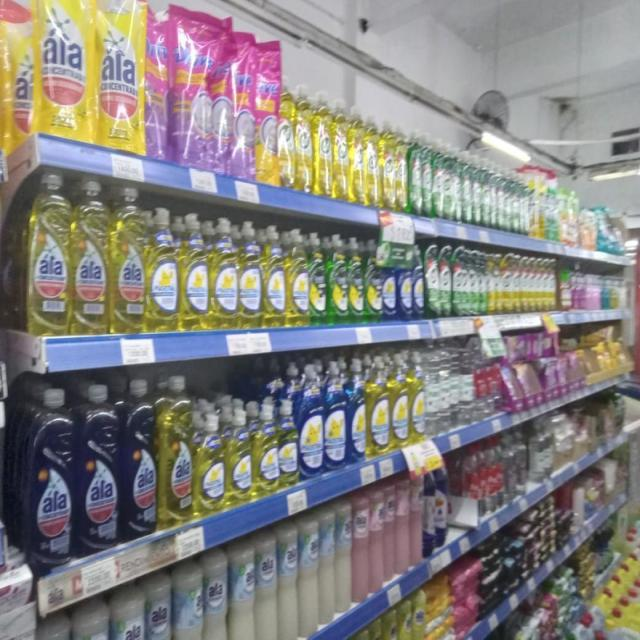ala_conc_amarillo: (24, 170, 69, 337), (71, 177, 109, 337), (158, 375, 193, 528), (110, 184, 145, 336)
ala_conc_azul: (25, 385, 74, 570), (76, 381, 120, 553), (122, 376, 157, 540)
ala_crem_blanco: (230, 543, 254, 640), (278, 525, 298, 640), (256, 534, 277, 640), (204, 550, 228, 640), (112, 585, 145, 640), (336, 502, 352, 615), (146, 572, 172, 640), (72, 599, 110, 640), (38, 613, 71, 640)
ala_crem_rosado: (353, 496, 369, 604), (370, 490, 384, 595)
ala_sachet_amarillo: (37, 0, 94, 140), (98, 0, 144, 153), (0, 0, 36, 150)
cif_conc_bot_amarilla: (313, 90, 332, 197), (294, 84, 312, 194), (278, 79, 294, 190), (332, 98, 348, 202), (348, 105, 364, 205), (364, 112, 379, 208), (380, 117, 394, 211), (395, 123, 407, 213)
cif_conc_botella_verde: (408, 128, 422, 216), (426, 244, 439, 320), (453, 247, 466, 318), (440, 245, 452, 318), (422, 133, 432, 217)
magistral_con_amarillo: (146, 206, 178, 334), (180, 211, 208, 332), (209, 216, 238, 330), (193, 411, 224, 516), (226, 406, 252, 507), (239, 220, 262, 330), (262, 224, 286, 328), (253, 400, 278, 498), (367, 358, 389, 458), (286, 228, 308, 328), (278, 398, 299, 489), (390, 356, 409, 449), (410, 353, 426, 444)
magistral_con_azul: (299, 364, 323, 480), (324, 361, 346, 473), (348, 358, 366, 464), (382, 246, 397, 323), (398, 248, 412, 322), (413, 245, 424, 321)
